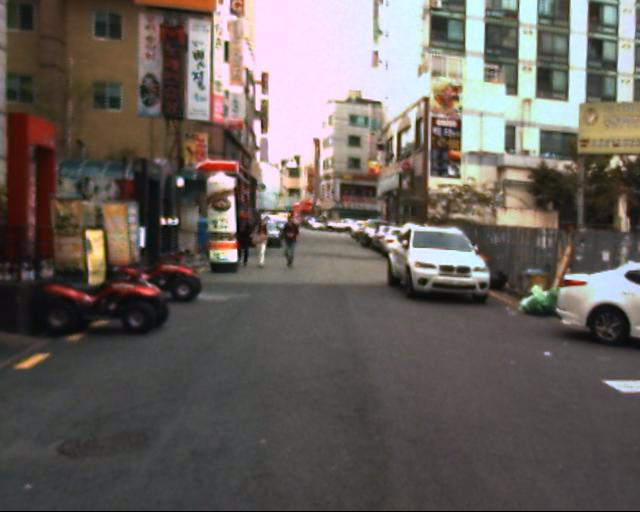person: (275, 209, 307, 278), (248, 213, 273, 279), (234, 207, 256, 270)
